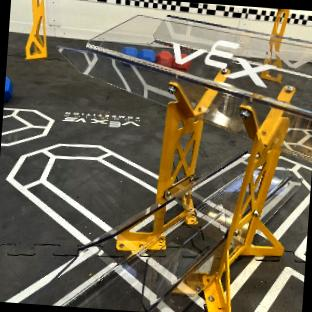V5_BLUE: (3, 75, 12, 101)
